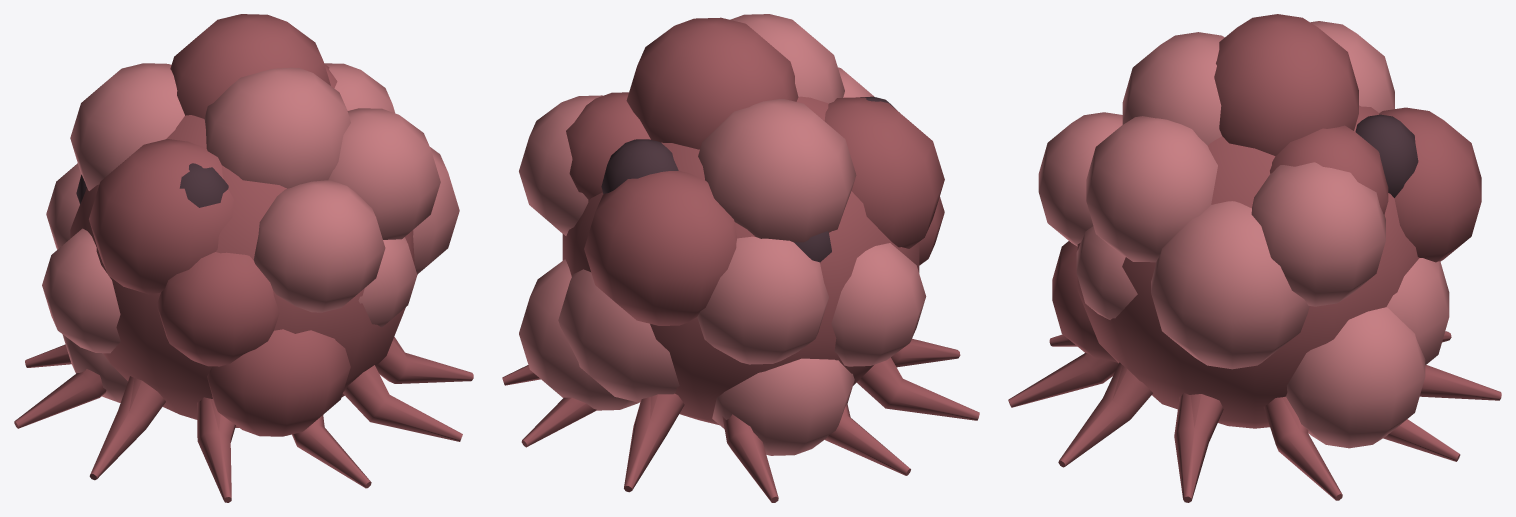
File: nucleus_f_assembled.obj
3 views of the same model, side by side, from view 1: azimuth 30°, elevation 25°; view 2: azimuth 150°, elevation 25°; view 3: azimuth 270°, elevation 25° (orthographic). The views are drawn at different scales.
Visible parts, largest first — view 1: source_component_121, source_component_125, source_component_132, source_component_138, source_component_131, source_component_134, source_component_135, source_component_137, source_component_136, source_component_130, source_component_153, source_component_126 (+11 smaller); view 2: source_component_128, source_component_136, source_component_137, source_component_121, source_component_123, source_component_125, source_component_127, source_component_133, source_component_130, source_component_124, source_component_139, source_component_122 (+10 smaller); view 3: source_component_121, source_component_129, source_component_137, source_component_139, source_component_135, source_component_124, source_component_128, source_component_132, source_component_138, source_component_122, source_component_133, source_component_126 (+9 smaller).
Part boxes in pixels (x1,y1,x2,y2): source_component_121: (70, 115, 417, 427); source_component_125: (89, 139, 233, 294); source_component_132: (204, 67, 350, 188); source_component_138: (253, 180, 385, 312); source_component_131: (207, 329, 350, 436); source_component_134: (157, 252, 279, 366); source_component_135: (328, 108, 440, 239); source_component_137: (170, 14, 330, 118); source_component_136: (70, 63, 184, 190); source_component_130: (42, 228, 120, 353); source_component_153: (343, 365, 462, 441); source_component_126: (358, 237, 417, 327); source_component_128: (584, 170, 737, 325); source_component_136: (698, 99, 856, 242); source_component_137: (626, 17, 798, 149); source_component_121: (562, 96, 919, 425); source_component_123: (697, 236, 828, 364); source_component_125: (824, 97, 944, 248); source_component_127: (712, 358, 854, 455); source_component_133: (558, 269, 679, 402); source_component_130: (831, 243, 926, 366); source_component_124: (519, 259, 638, 410); source_component_139: (519, 95, 602, 235); source_component_122: (566, 92, 650, 201); source_component_121: (1077, 105, 1419, 428); source_component_129: (1151, 201, 1309, 369); source_component_137: (1214, 14, 1358, 155); source_component_139: (1251, 162, 1385, 306); source_component_135: (1086, 116, 1217, 262); source_component_124: (1286, 307, 1425, 448); source_component_128: (1379, 107, 1481, 262); source_component_132: (1122, 32, 1224, 145); source_component_138: (1038, 112, 1122, 246); source_component_122: (1270, 125, 1388, 214); source_component_133: (1386, 258, 1449, 365); source_component_126: (1076, 226, 1137, 319).
Bounding box in the file's own units: 1.26 × 1.16 × 1.31.
